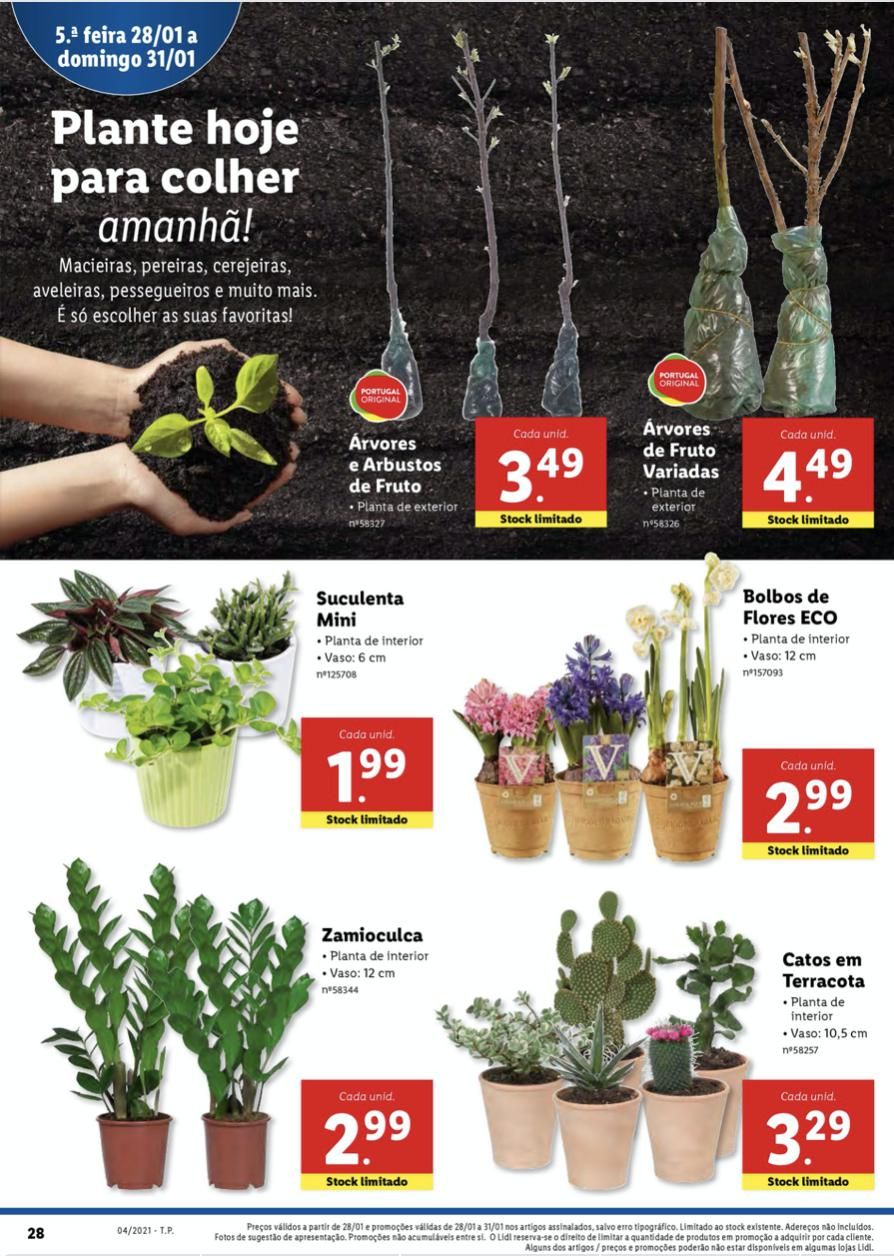name: (639, 413, 732, 488), (347, 433, 450, 499), (742, 585, 850, 632), (312, 591, 412, 633), (782, 949, 875, 991), (318, 918, 431, 952)
price: (315, 1105, 418, 1175), (756, 1104, 856, 1174), (762, 777, 861, 844), (495, 444, 589, 511), (320, 744, 415, 810), (762, 443, 853, 511)
product: (334, 19, 625, 557), (9, 855, 440, 1204), (440, 880, 894, 1204), (465, 546, 892, 875), (7, 546, 454, 858), (635, 17, 892, 558)
